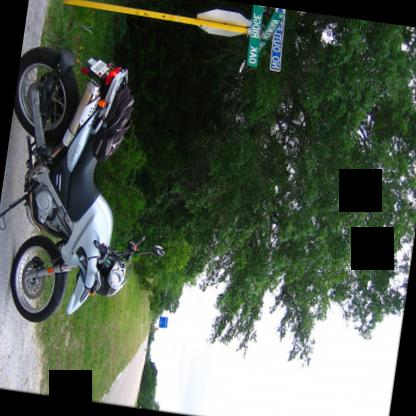backpack: (91, 75, 133, 163)
